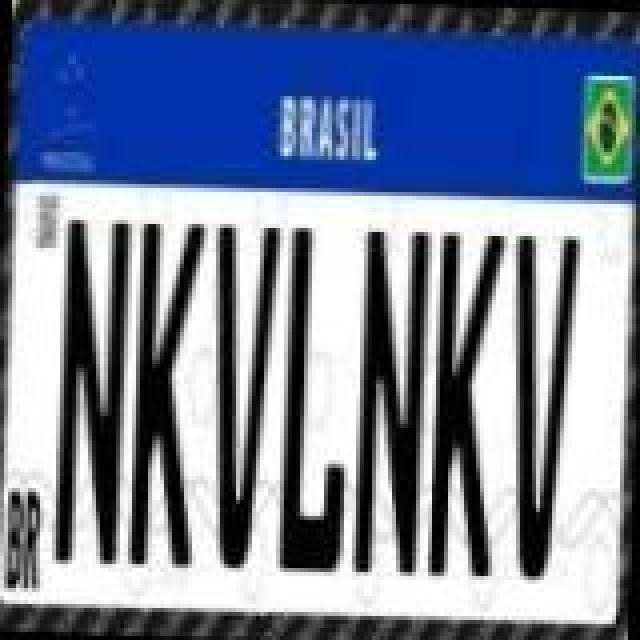K: (124, 218, 204, 570), (428, 230, 508, 582)
L: (276, 226, 356, 574)
N: (352, 224, 432, 580), (52, 212, 132, 564)
V: (204, 222, 284, 574), (500, 232, 580, 584)
